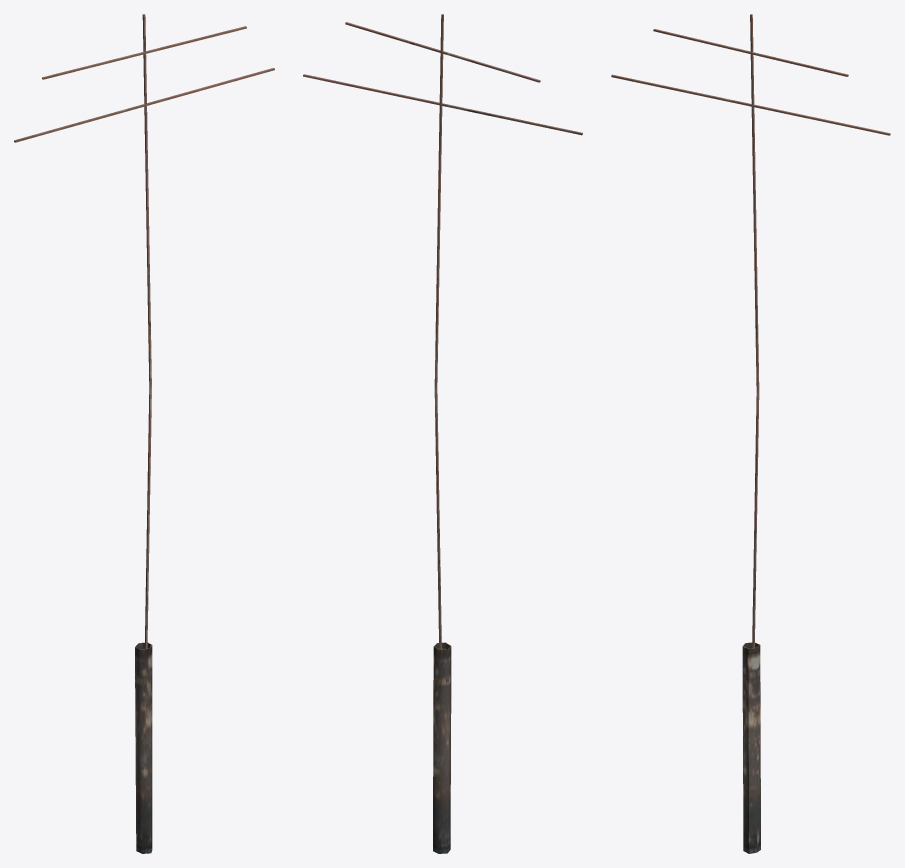
File: Aerial_01.fbx
3 renders of one model, left to right at view 1: azimuth 30°, elevation 25°; view 2: azimuth 150°, elevation 25°; view 3: azimuth 330°, elevation 25°, orthographic.
Visible parts, largest first — view 1: Aerial_01; view 2: Aerial_01; view 3: Aerial_01.
Boxes of the visible parts, x1,y1,x2,y2 form: Aerial_01: (14,14,274,853); Aerial_01: (303,14,582,853); Aerial_01: (611,14,890,853).
Bounding box in the file's own units: 148 × 10.04 × 438.
Materials: 1 (1 with a texture image).
